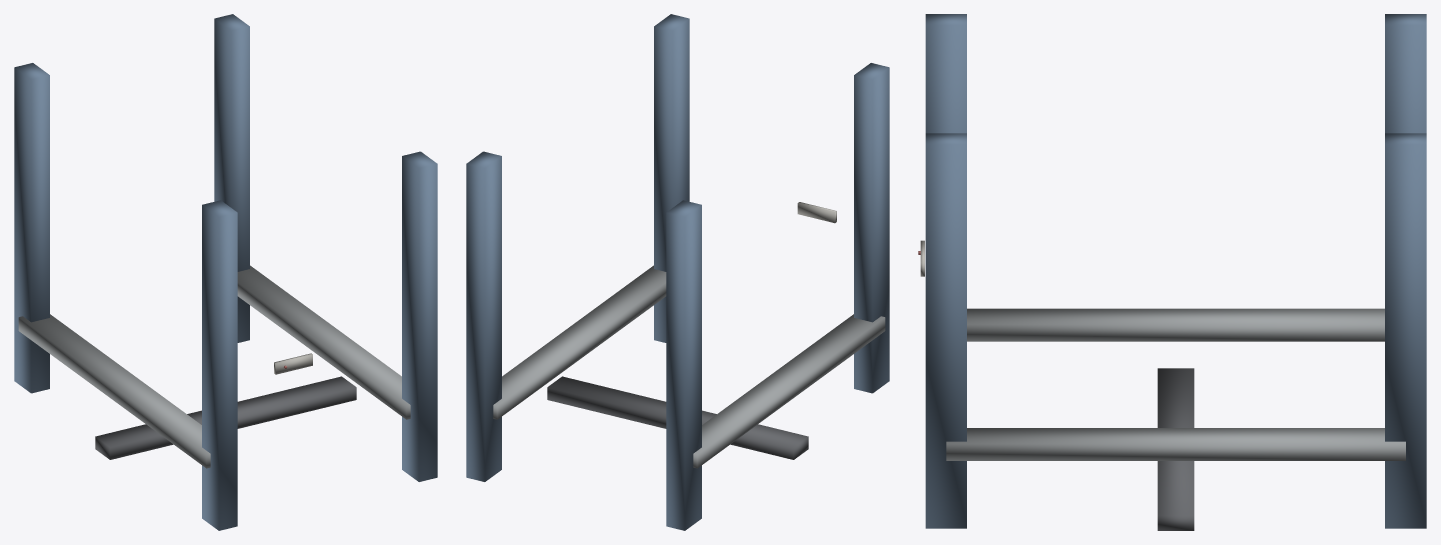
Rendered from four_post_car_lift__deep.glb.
3 renders of one model, left to right at view 1: azimuth 30°, elevation 25°; view 2: azimuth 150°, elevation 25°; view 3: azimuth 270°, elevation 25°, orthographic. The views are drawn at different scales.
Visible parts, largest first — view 1: world; view 2: world; view 3: world.
Part boxes in pixels (x1,y1,x2,y2): world: (14,14,437,530); world: (466,14,889,530); world: (918,14,1426,530).
Bounding box in the file's own units: 1.85 × 2.25 × 2.7.
